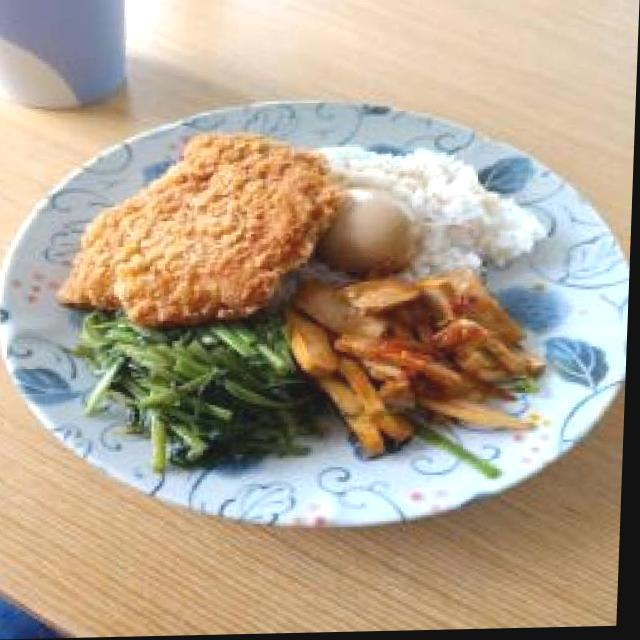fried_chicken: (65, 127, 336, 327)
rice: (356, 149, 520, 287)
water_spinach: (79, 312, 299, 473)
